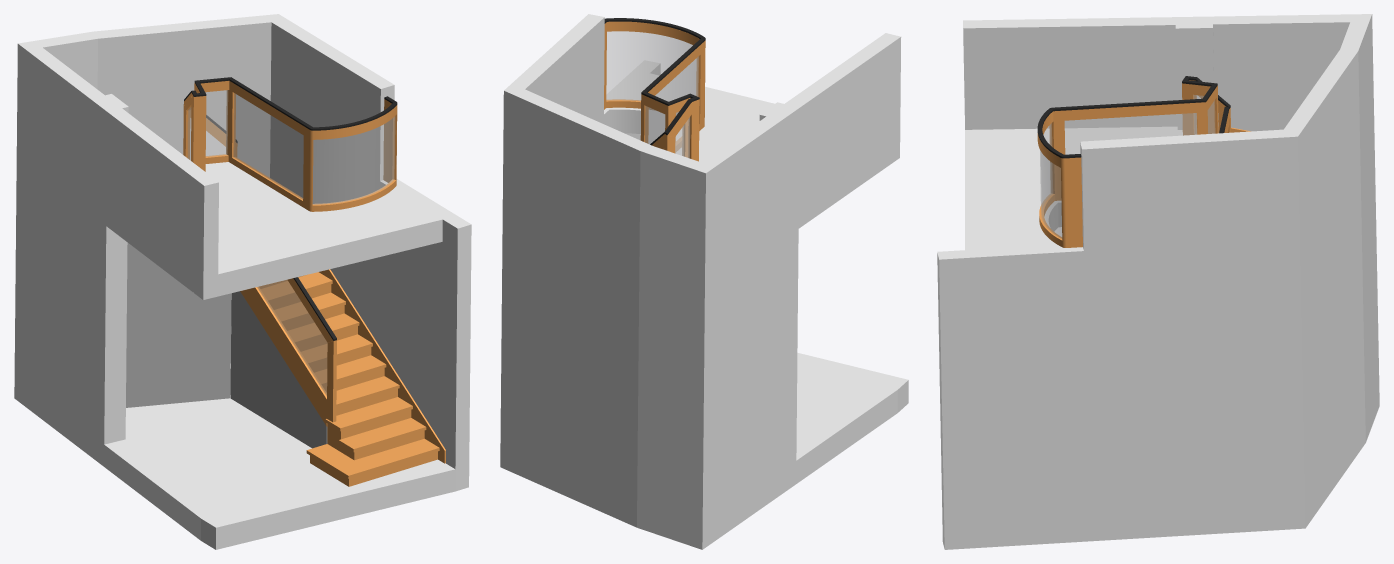
File: лестница на металлокаркасевсборесбалюстрадой.obj
The picture shows the model from 3 angles, left to right: view 1: azimuth 30°, elevation 25°; view 2: azimuth 150°, elevation 25°; view 3: azimuth 270°, elevation 25°; orthographic projection. The views are drawn at different scales.
Size of the model in its own units: 3.47 by 4.71 by 4.74.
